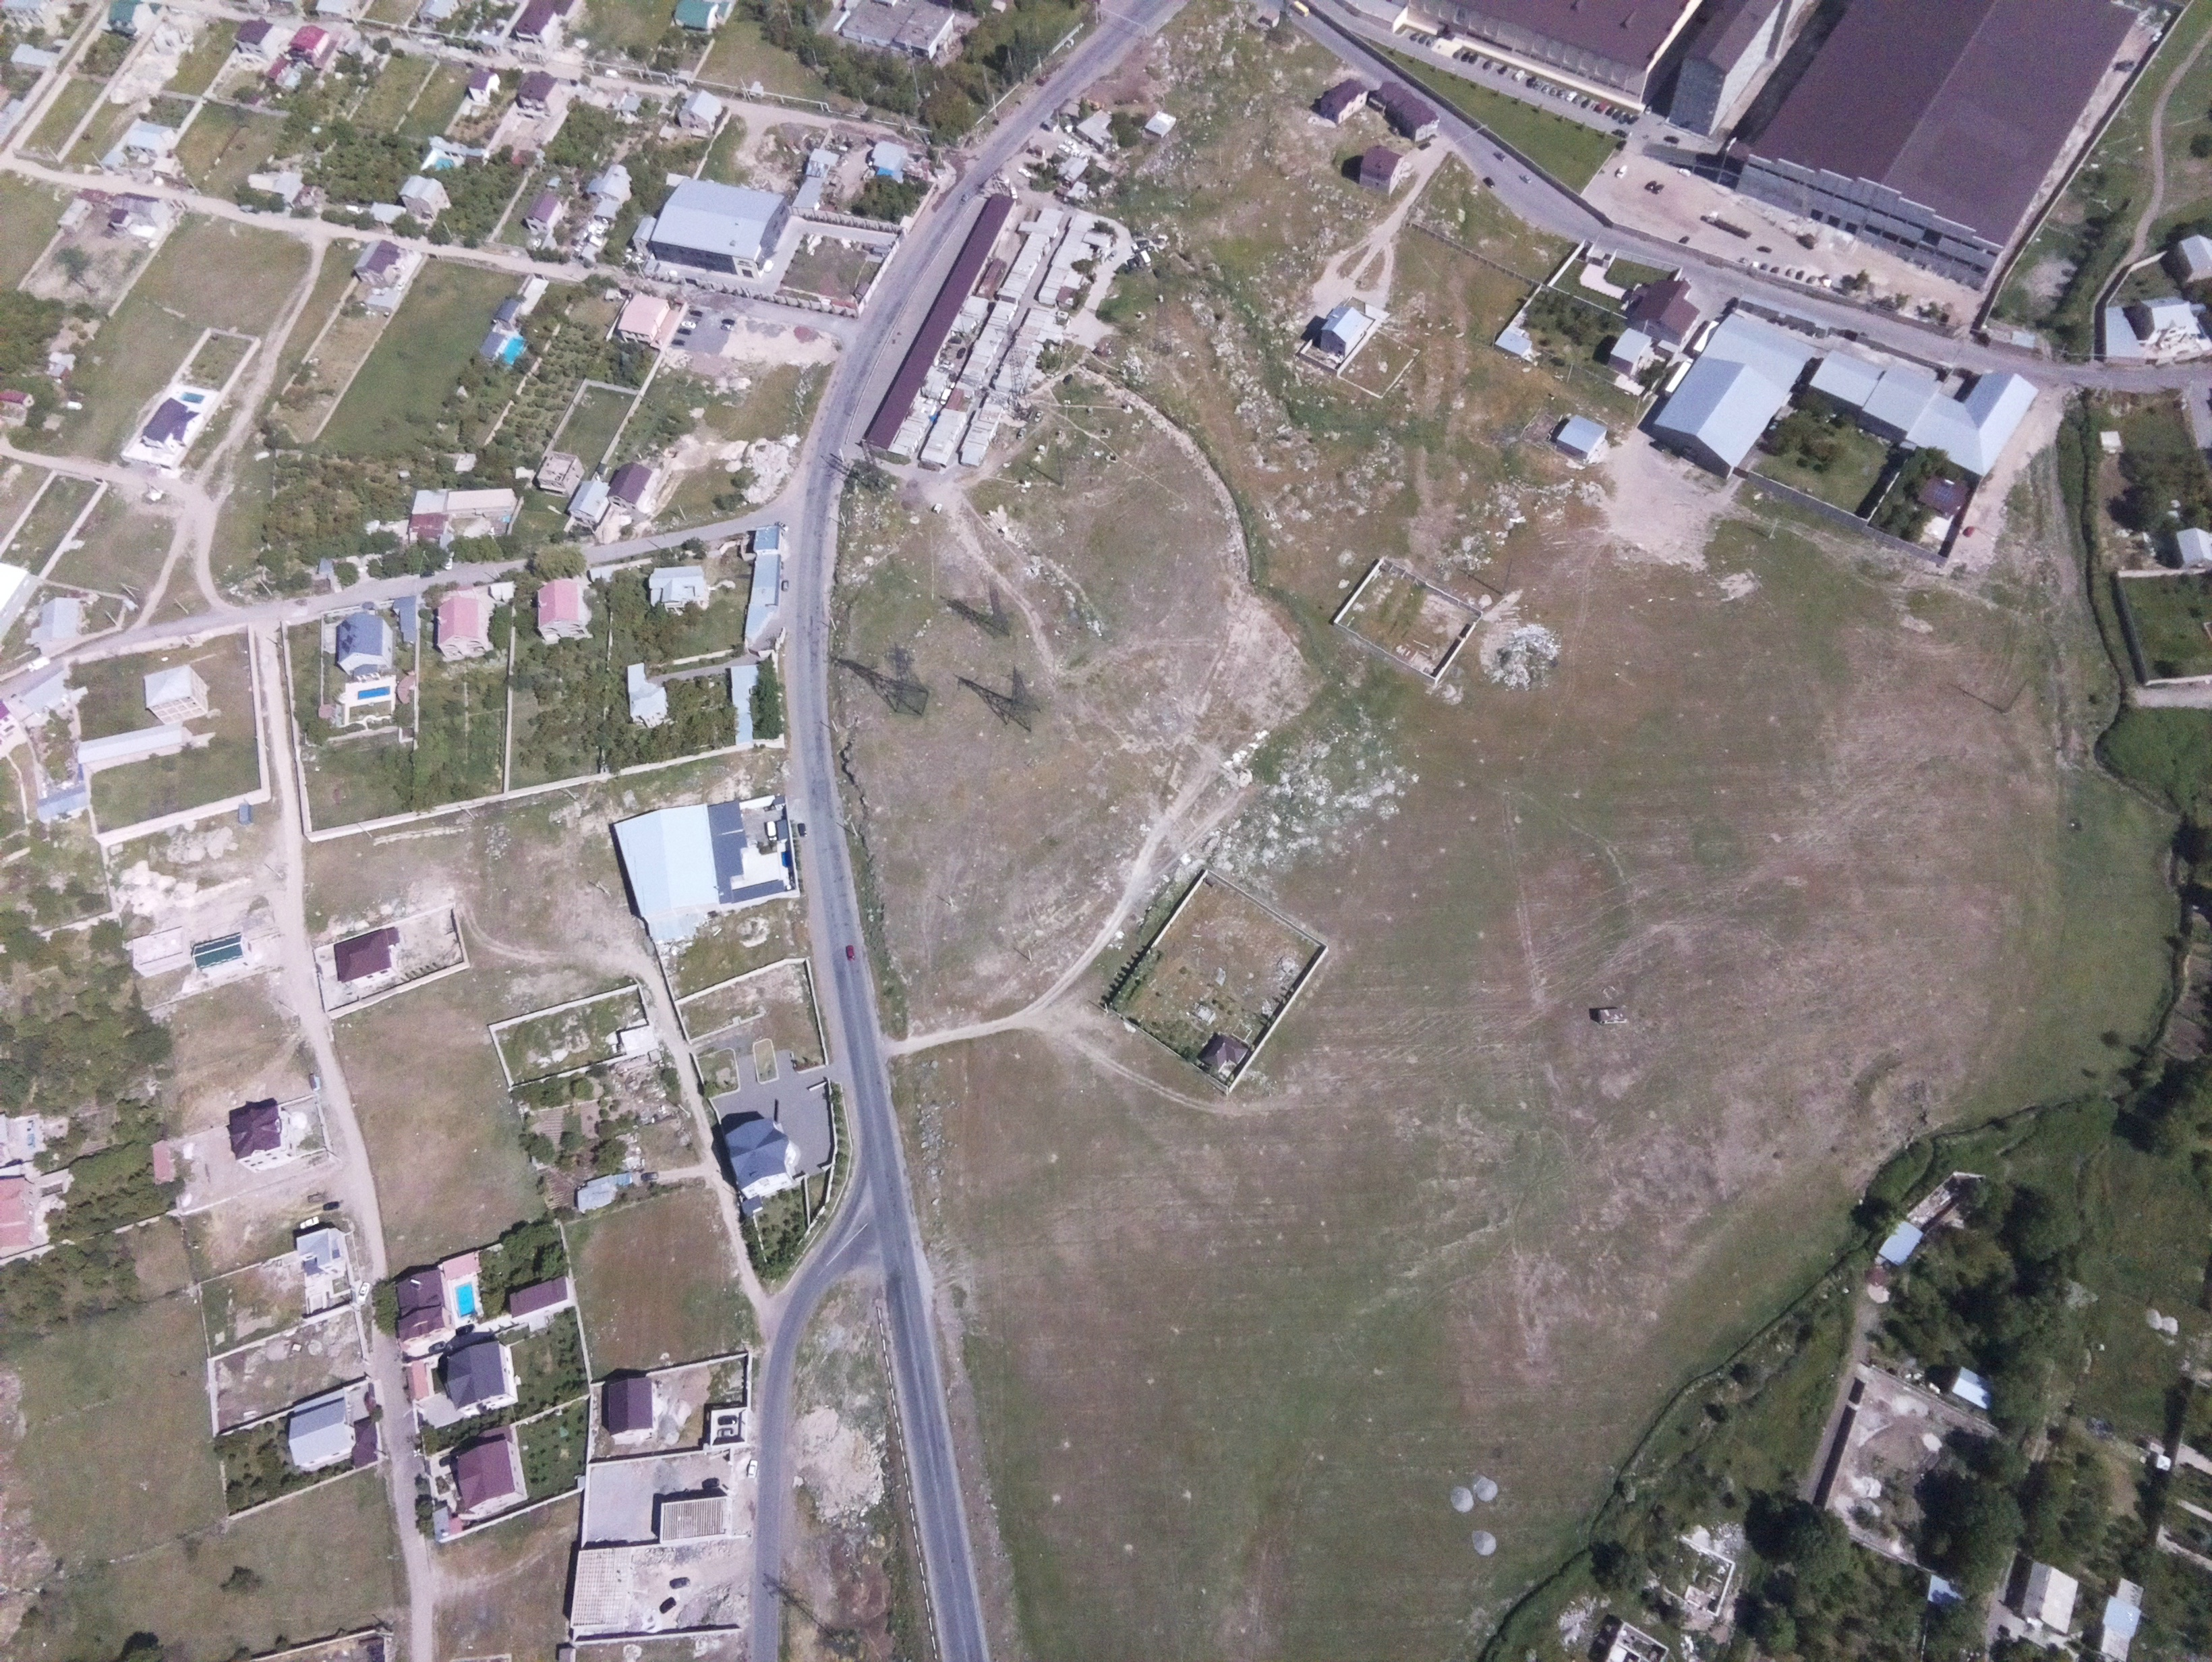car: (761, 819, 782, 845), (716, 1411, 742, 1428), (1479, 173, 1498, 196), (637, 1166, 662, 1184), (424, 1339, 447, 1356), (297, 1213, 319, 1231), (744, 1458, 761, 1480), (667, 1575, 691, 1590), (712, 1423, 737, 1439), (794, 819, 810, 841), (1611, 161, 1629, 180), (1515, 169, 1536, 185), (676, 316, 698, 330), (845, 943, 857, 967), (777, 576, 793, 594), (1489, 148, 1508, 162), (1006, 183, 1018, 203)
